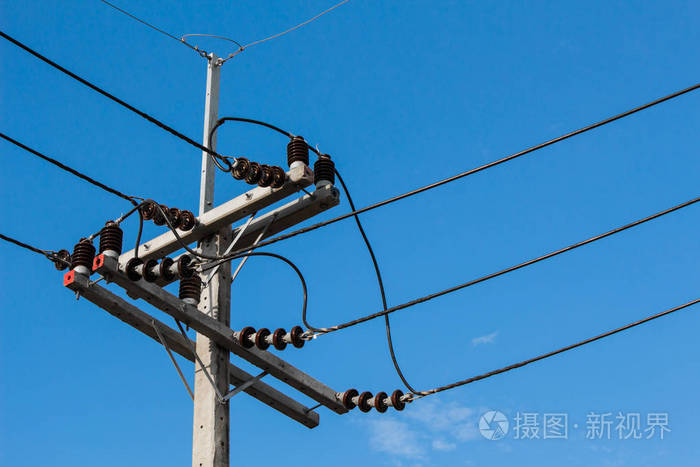insulator: (123, 254, 194, 284), (137, 198, 195, 233), (239, 323, 308, 352), (232, 155, 286, 187), (341, 389, 405, 413)
